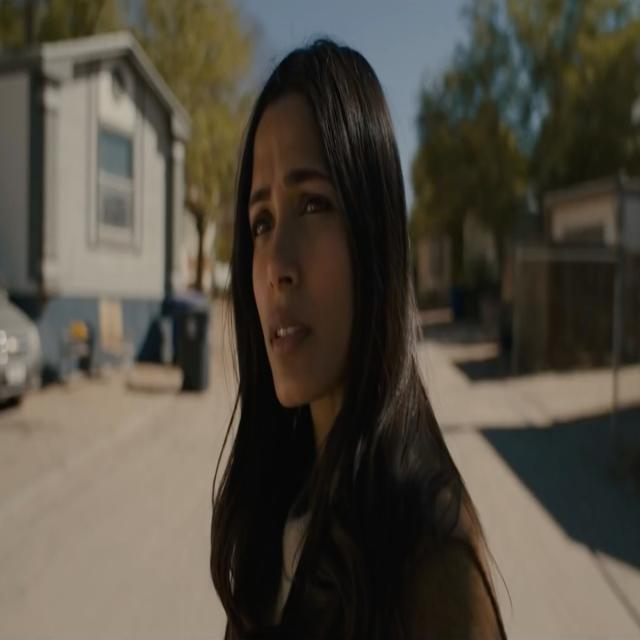intrusion detected: (211, 47, 504, 640)
